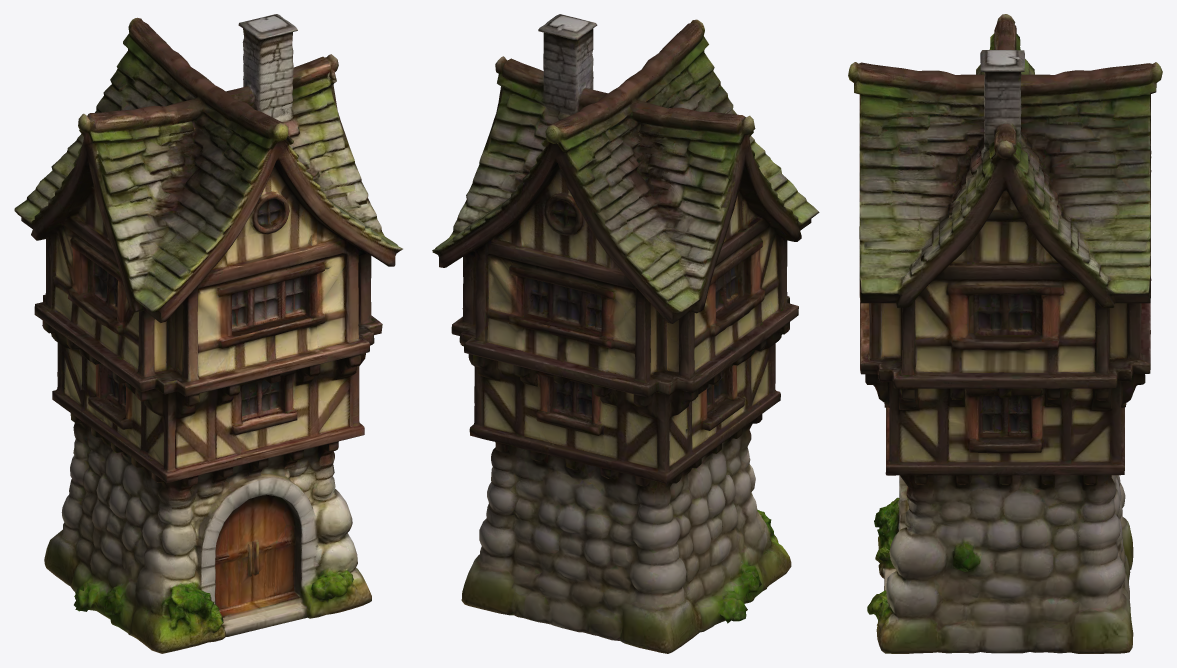
The model's file is Timberstone_Tower_Hou.glb.
3 views of the same model, side by side, from view 1: azimuth 30°, elevation 25°; view 2: azimuth 150°, elevation 25°; view 3: azimuth 270°, elevation 25° (orthographic). The views are drawn at different scales.
Visible parts, largest first — view 1: Timberstone_Tower_Hou; view 2: Timberstone_Tower_Hou; view 3: Timberstone_Tower_Hou.
Part boxes in pixels (left/top/right/bottom): Timberstone_Tower_Hou: left=14, top=14, right=402, bottom=653; Timberstone_Tower_Hou: left=432, top=14, right=819, bottom=653; Timberstone_Tower_Hou: left=848, top=14, right=1162, bottom=653.
Bounding box in the file's own units: 0.9393 × 1.91 × 0.9498.
Materials: 1 (1 with a texture image).
